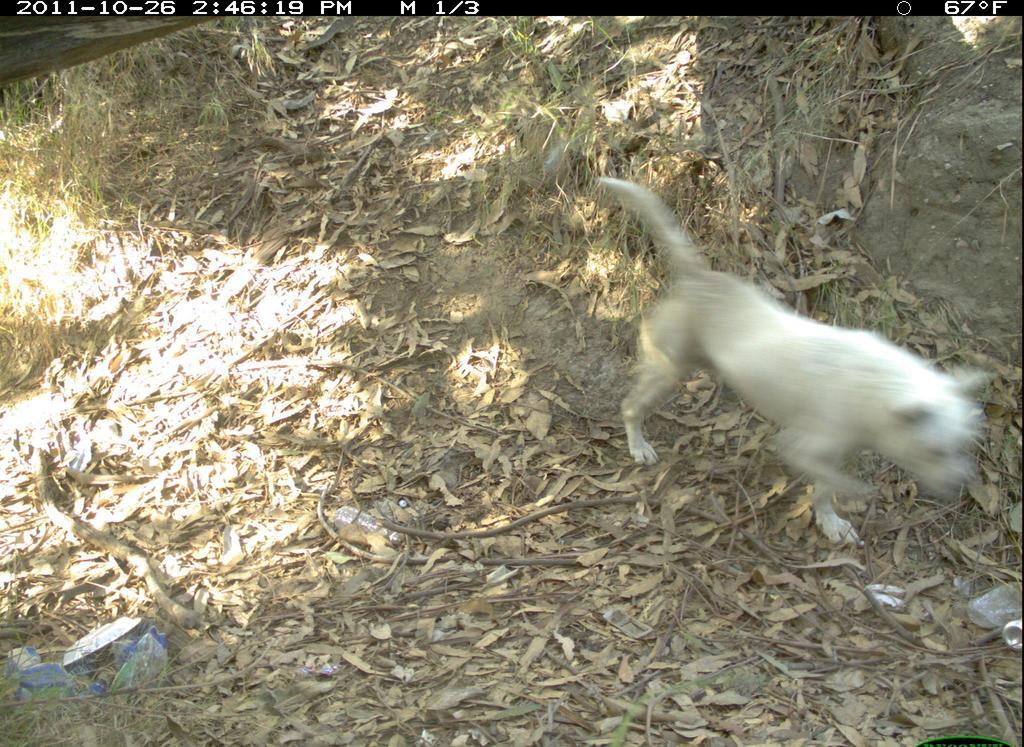dog: (537, 155, 1004, 570)
